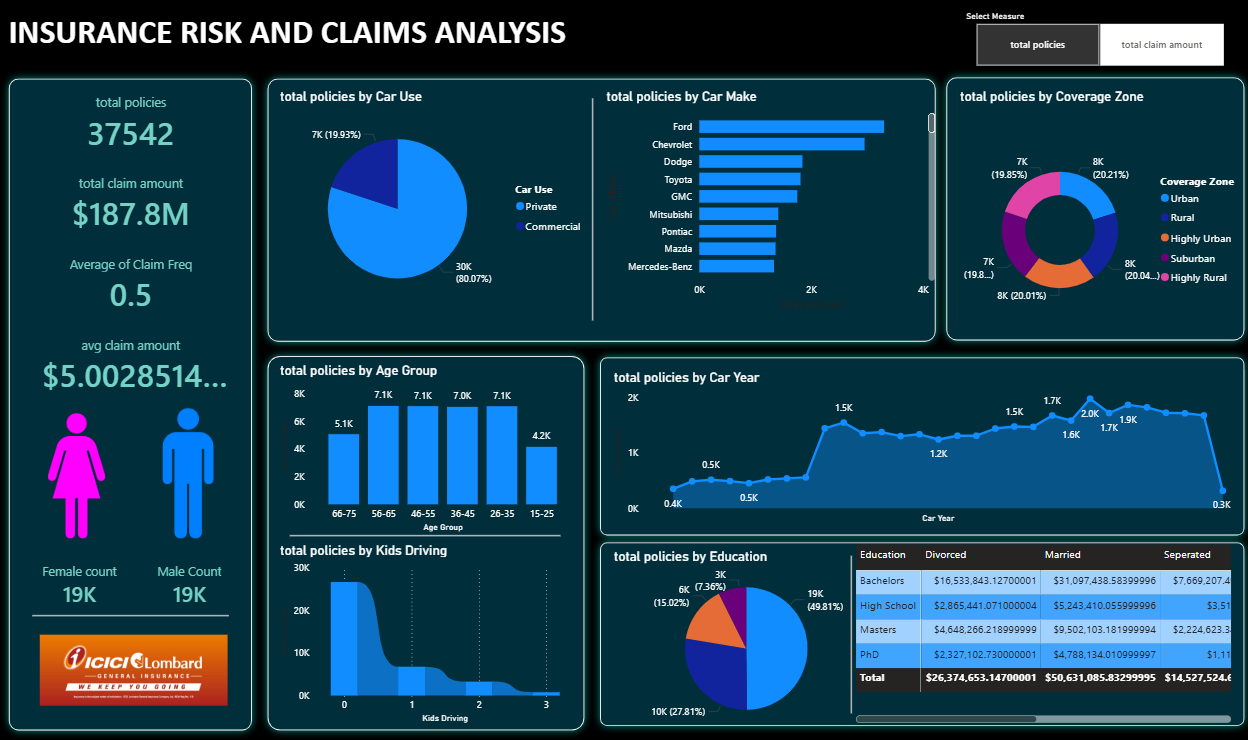

This screenshot's page, from the dashboard's own definition file:
{"tool":"powerbi","page":{"name":"Page 1","canvas":[1600,950],"ordinal":0},"visuals":[{"type":"textbox","box":[11.1,12.7,725.9,70],"z":0},{"type":"shape","box":[6.4,93.9,329.5,850],"z":1000},{"type":"cardVisual","fields":{"Data":["insurance_data_car.total policies","insurance_data_car.total claim amount","Avg(insurance_data_car.Claim Freq)","insurance_data_car.avg claim amount"]},"box":[31.8,105.1,280.2,402.7],"z":2000},{"type":"cardVisual","fields":{"Data":["insurance_data_car.Female count","insurance_data_car.Male Count"]},"box":[41.4,619.2,270.6,257.9],"z":3000},{"type":"image","box":[41.4,525.3,122.6,168.7],"z":4000},{"type":"image","box":[191,518.9,106.7,175.1],"z":5000},{"type":"slicer","fields":{"Values":["Select Measure.Select Measure"]},"box":[1222.5,12.7,364.5,81.2],"z":6000},{"type":"shape","box":[335.9,93.9,870.7,355],"z":7000},{"type":"pieChart","fields":{"Y":["insurance_data_car.total policies"],"Category":["insurance_data_car.Car Use"]},"box":[356.6,116.2,402.7,288.1],"z":8000},{"type":"clusteredBarChart","fields":{"Y":["insurance_data_car.total policies"],"Category":["insurance_data_car.Car Make"]},"box":[771.9,116.6,428.8,288.2],"z":9000},{"type":"shape","box":[1200.2,92.3,399.5,355],"z":10000},{"type":"donutChart","fields":{"Y":["insurance_data_car.total policies"],"Category":["insurance_data_car.Coverage Zone"]},"box":[1222.5,116.2,377.3,342.2],"z":11000},{"type":"shape","box":[335.9,447.3,423.4,496.7],"z":12000},{"type":"clusteredColumnChart","fields":{"Y":["insurance_data_car.total policies"],"Category":["insurance_data_car.Age Group"]},"box":[356.8,464.8,384.2,221.3],"z":13000},{"type":"ribbonChart","fields":{"Y":["insurance_data_car.total policies"],"Category":["insurance_data_car.Kids Driving"]},"box":[356.6,694,383.6,235.6],"z":14000},{"type":"shape","box":[759.3,448.9,840.5,246.7],"z":15000},{"type":"areaChart","fields":{"Y":["insurance_data_car.total policies"],"Category":["insurance_data_car.Car Year"]},"box":[782.2,475.1,795.9,200.7],"z":16000},{"type":"shape","box":[759.9,684.4,840.5,253.9],"z":17000},{"type":"pieChart","fields":{"Y":["insurance_data_car.total policies"],"Category":["insurance_data_car.Education"]},"box":[782.2,701.5,348.2,236.7],"z":18000},{"type":"pivotTable","fields":{"Rows":["insurance_data_car.Education"],"Columns":["insurance_data_car.Marital Status"],"Values":["insurance_data_car.total claim amount"]},"box":[1090.9,693,487.1,236.7],"z":19000},{"type":"shape","box":[608.9,128.6,300.2,283],"z":20000},{"type":"shape","box":[940,711.8,300.2,200.7],"z":21000},{"type":"shape","box":[373.9,543.7,344.8,283],"z":22000},{"type":"shape","box":[46.3,646.7,250.4,283],"z":23000},{"type":"image","box":[51.5,763.3,248.7,187],"z":24000}]}

Visuals, with their boxes in screenshot pixels (x1, y1, x2, y2), scaled from the page's 1600x950 canvas onto the 1248x740 screenshot:
textbox: 9/10/575/64
shape: 5/73/262/735
cardVisual - insurance_data_car.total policies x insurance_data_car.total claim amount: 25/82/243/396
cardVisual - insurance_data_car.Female count x insurance_data_car.Male Count: 32/482/243/683
image: 32/409/128/541
image: 149/404/232/541
slicer - Select Measure.Select Measure: 954/10/1238/73
shape: 262/73/941/350
pieChart - insurance_data_car.total policies x insurance_data_car.Car Use: 278/91/592/315
clusteredBarChart - insurance_data_car.total policies x insurance_data_car.Car Make: 602/91/937/315
shape: 936/72/1247/348
donutChart - insurance_data_car.total policies x insurance_data_car.Coverage Zone: 954/91/1247/357
shape: 262/348/592/735
clusteredColumnChart - insurance_data_car.total policies x insurance_data_car.Age Group: 278/362/578/534
ribbonChart - insurance_data_car.total policies x insurance_data_car.Kids Driving: 278/541/577/724
shape: 592/350/1247/542
areaChart - insurance_data_car.total policies x insurance_data_car.Car Year: 610/370/1231/526
shape: 593/533/1247/731
pieChart - insurance_data_car.total policies x insurance_data_car.Education: 610/546/882/731
pivotTable - insurance_data_car.Education x insurance_data_car.Marital Status: 851/540/1231/724
shape: 475/100/709/321
shape: 733/554/967/711
shape: 292/424/561/644
shape: 36/504/231/724
image: 40/595/234/739
